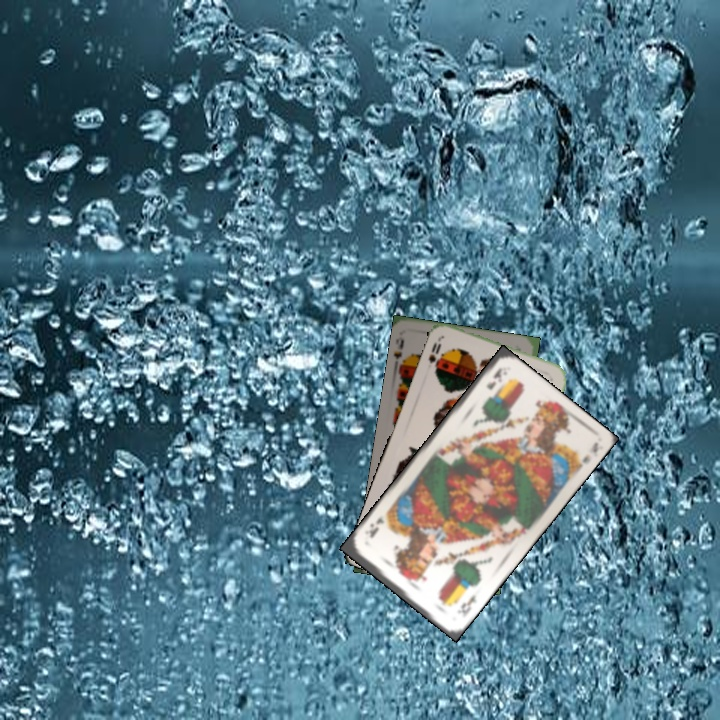EK: (453, 590, 479, 620), (482, 363, 505, 392)
S9: (390, 335, 409, 372)
SO: (424, 335, 445, 376)
